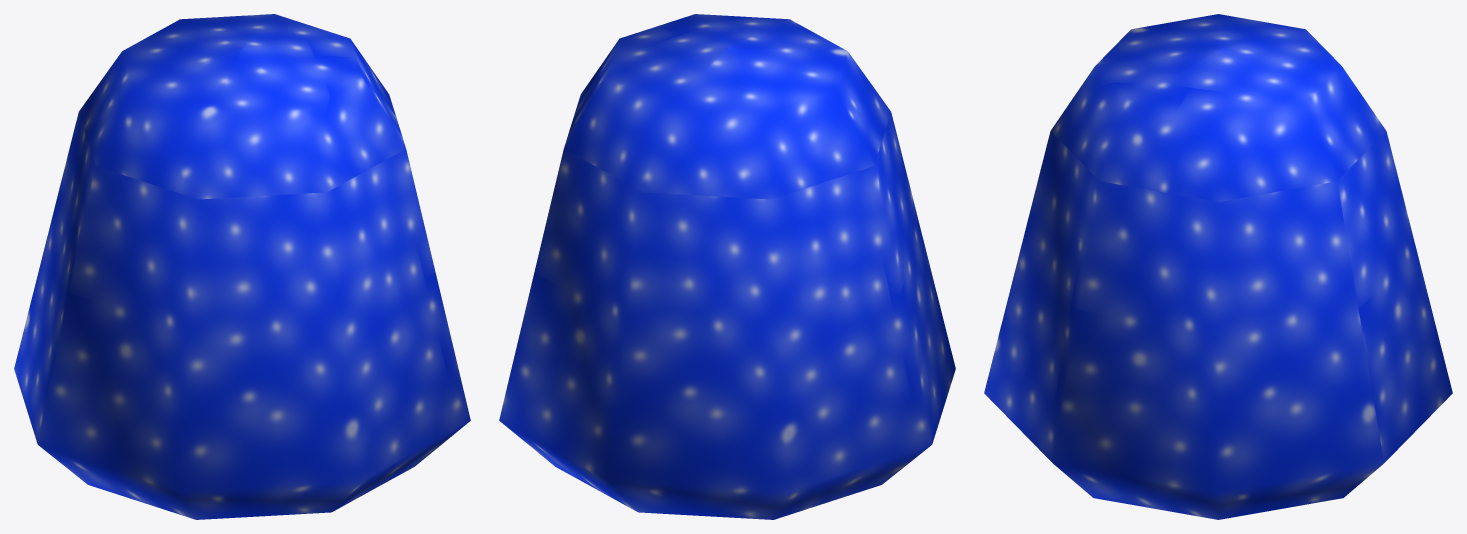
Rendered from Gumdrop.FBX.
3 renders of one model, left to right at view 1: azimuth 30°, elevation 25°; view 2: azimuth 150°, elevation 25°; view 3: azimuth 270°, elevation 25°, orthographic.
Visible parts, largest first — view 1: Gumdrop; view 2: Gumdrop; view 3: Gumdrop.
Part boxes in pixels (x1,y1,x2,y2): Gumdrop: (14,14,470,519); Gumdrop: (499,14,955,519); Gumdrop: (984,14,1452,519).
Bounding box in the file's own units: 180 × 167 × 180.
